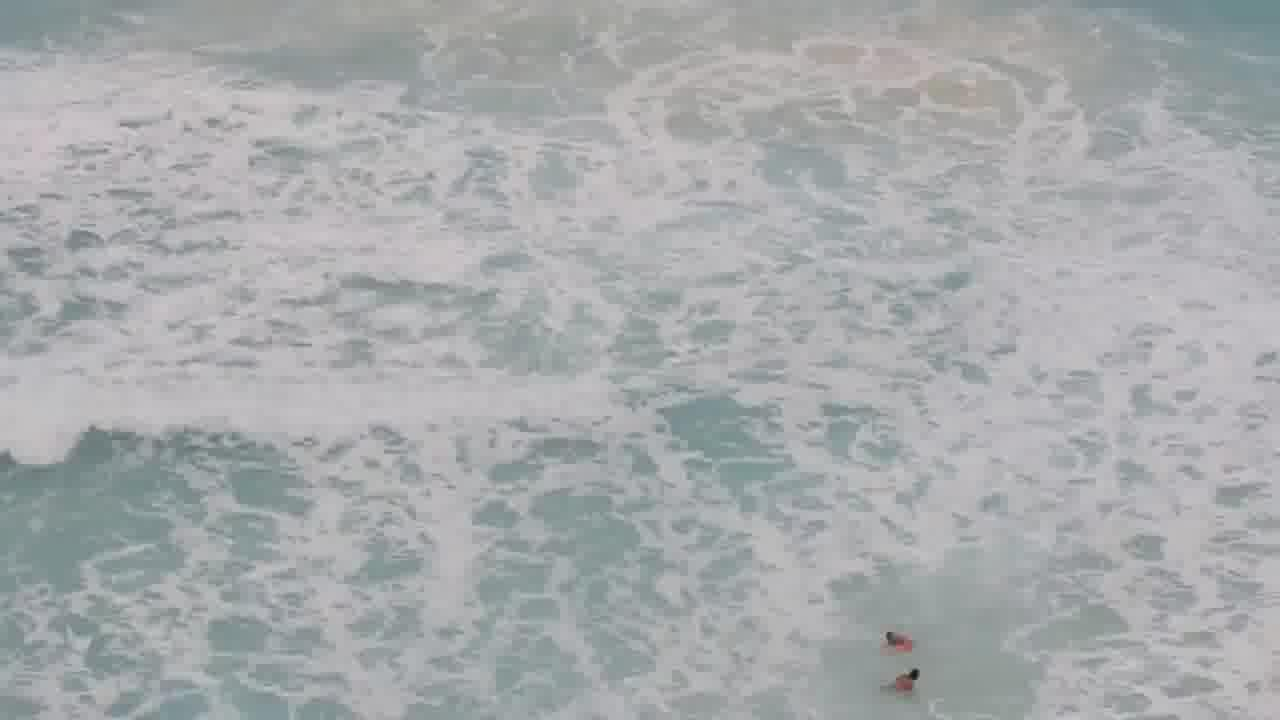human: (877, 624, 915, 653), (888, 664, 931, 687)
